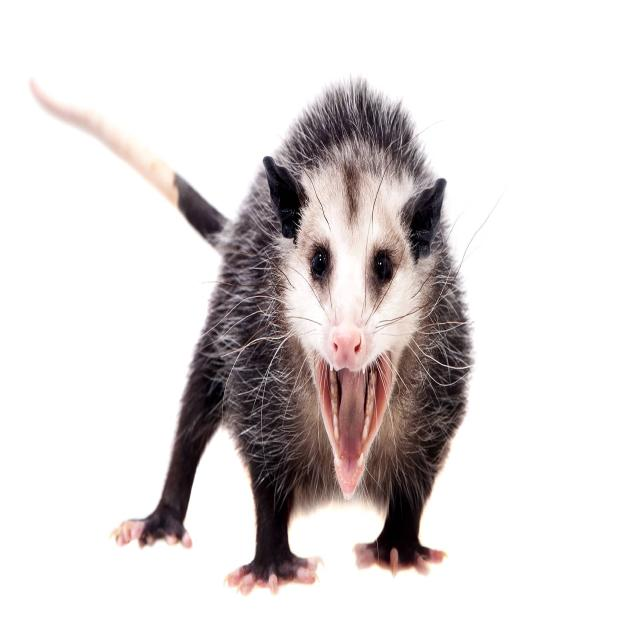Possum: (28, 82, 472, 580)
